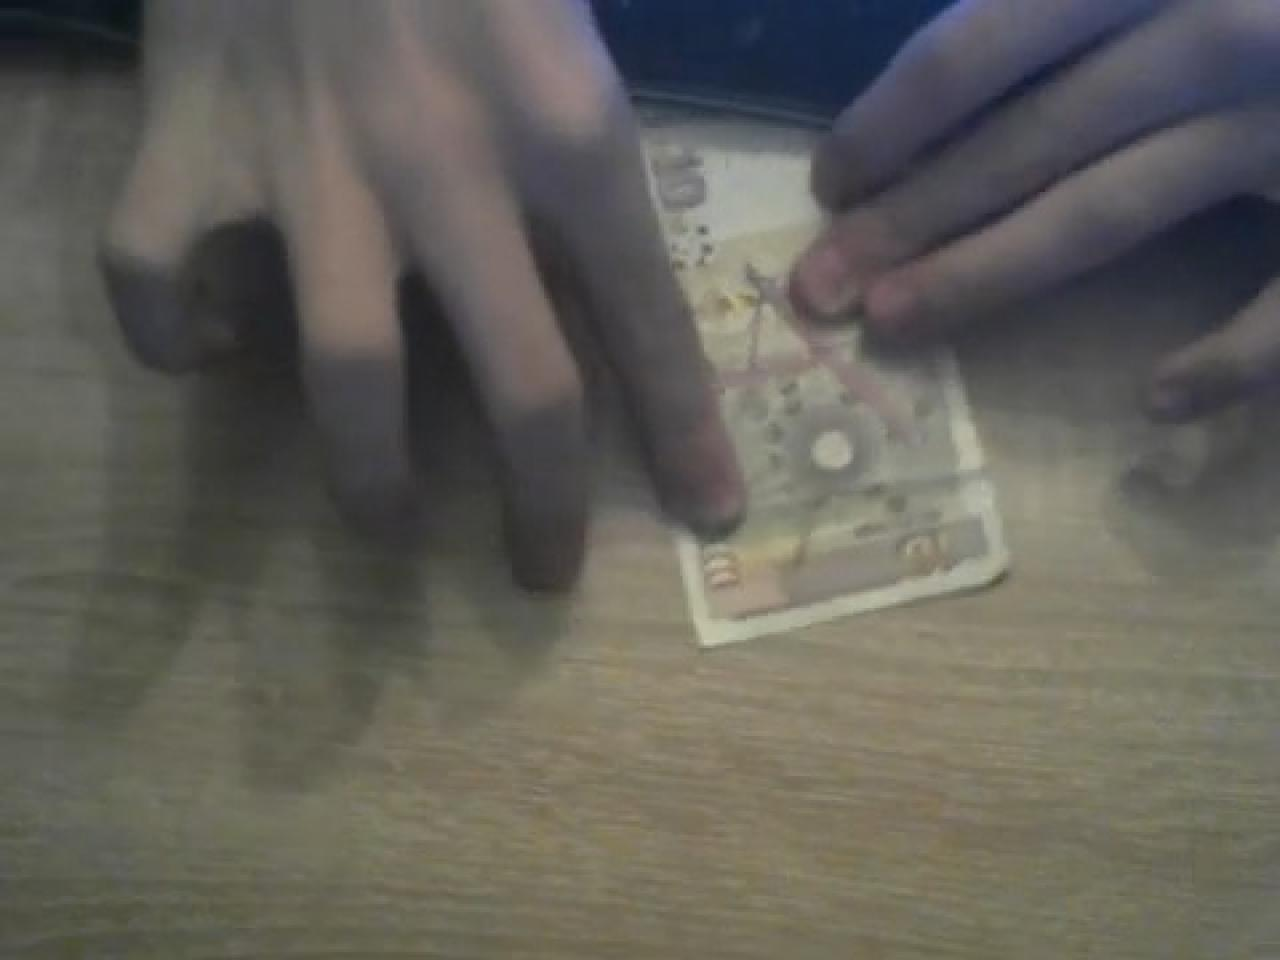10leva: (645, 104, 1011, 651)
